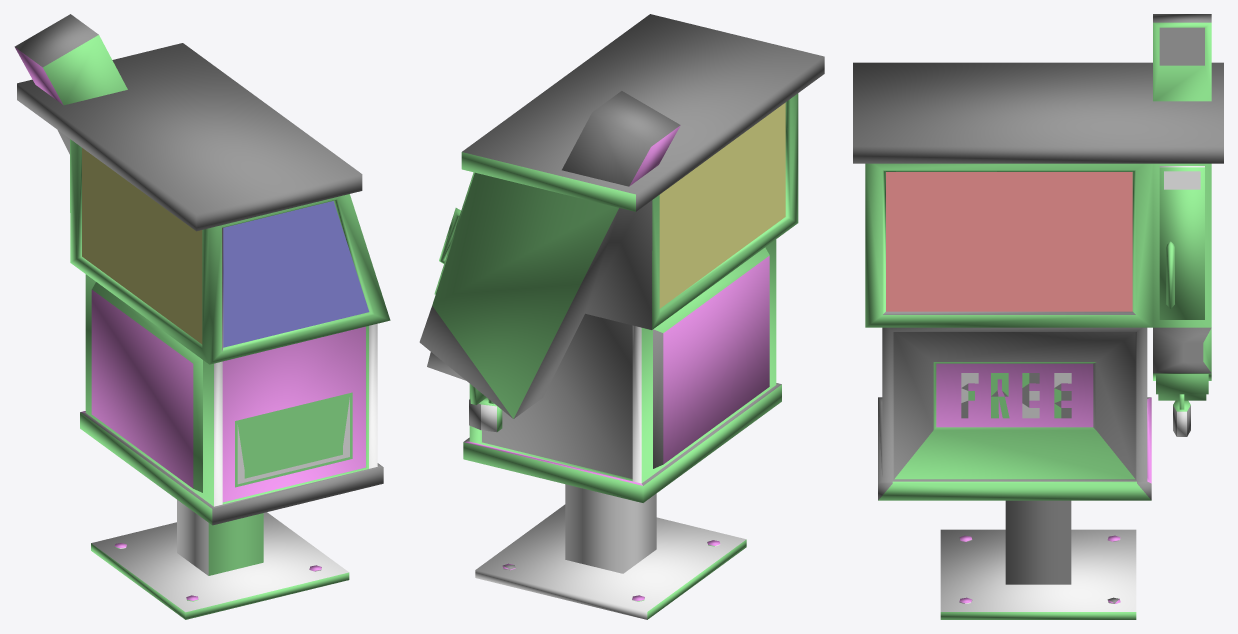
Rendered from SM_press_box_1.gltf.
3 renders of one model, left to right at view 1: azimuth 30°, elevation 25°; view 2: azimuth 150°, elevation 25°; view 3: azimuth 270°, elevation 25°, orthographic. The views are drawn at different scales.
Visible parts, largest first — view 1: SM_press_box_1; view 2: SM_press_box_1; view 3: SM_press_box_1.
Part boxes in pixels (box(x1,y1,x2,y2)): SM_press_box_1: box(14, 14, 390, 619); SM_press_box_1: box(419, 14, 824, 619); SM_press_box_1: box(853, 14, 1223, 619).
Size of the model in its own units: 0.7171 by 1.56 by 1.
